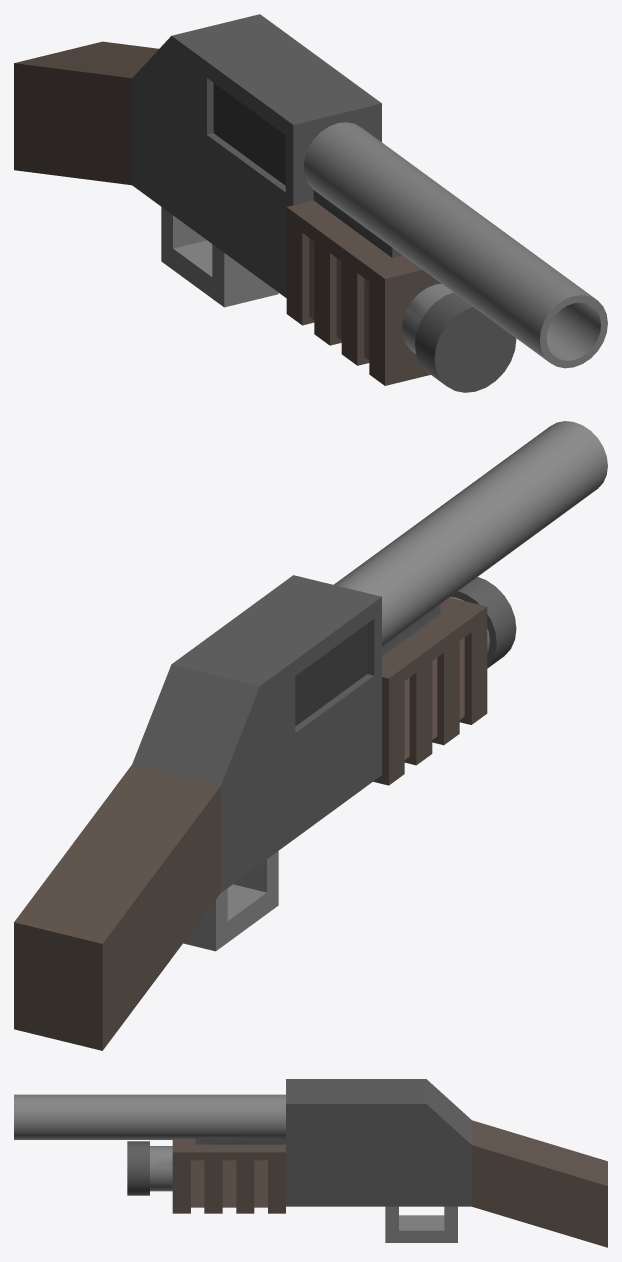
File: shotgunShort.fbx
3 views of the same model, one above another, from view 1: azimuth 30°, elevation 25°; view 2: azimuth 150°, elevation 25°; view 3: azimuth 270°, elevation 25° (orthographic). The views are drawn at different scales.
Parts seen in each view (by area): view 1: Mesh1_Group2 Group1 Model, Mesh2_Group3 Group1 Model; view 2: Mesh1_Group2 Group1 Model, Mesh2_Group3 Group1 Model; view 3: Mesh1_Group2 Group1 Model, Mesh2_Group3 Group1 Model.
Boxes of the visible parts, x1,y1,x2,y2 form: Mesh1_Group2 Group1 Model: (14,14,607,392); Mesh2_Group3 Group1 Model: (286,200,441,385); Mesh1_Group2 Group1 Model: (14,421,607,1050); Mesh2_Group3 Group1 Model: (373,597,487,785); Mesh1_Group2 Group1 Model: (14,1079,607,1247); Mesh2_Group3 Group1 Model: (172,1140,285,1213).
Bounding box in the file's own units: 0.009 × 0.021 × 0.0786.
